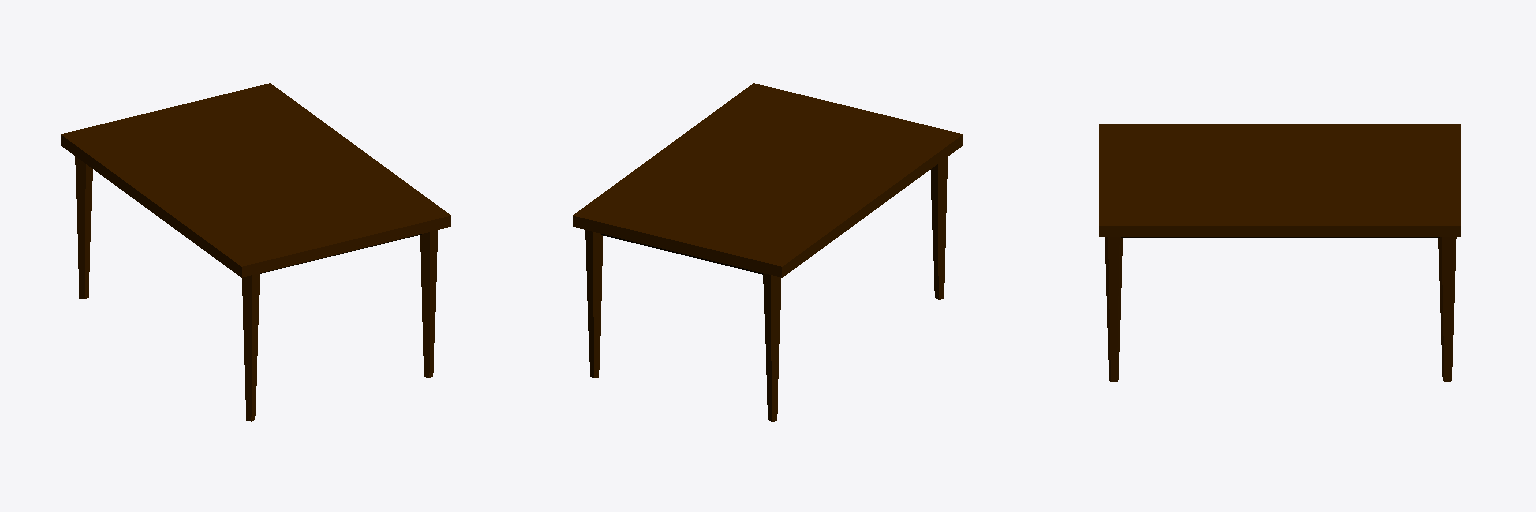
The model's file is mesa.obj.
The picture shows the model from 3 angles: view 1: azimuth 30°, elevation 25°; view 2: azimuth 150°, elevation 25°; view 3: azimuth 270°, elevation 25°; orthographic projection.
Parts seen in each view (by area): view 1: Cube.5, Cone.1, Cone, Cone.3; view 2: Cube.5, Cone.3, Cone.2, Cone.1; view 3: Cube.5, Cone, Cone.2.
Part boxes in pixels (x1,y1,x2,y2): Cube.5: (61, 83, 450, 277); Cone.1: (242, 274, 259, 421); Cone: (420, 230, 437, 377); Cone.3: (75, 156, 92, 298); Cube.5: (573, 83, 962, 277); Cone.3: (763, 273, 780, 421); Cone.2: (585, 230, 602, 377); Cone.1: (930, 157, 947, 299); Cube.5: (1099, 124, 1460, 236); Cone: (1105, 237, 1122, 381); Cone.2: (1438, 237, 1456, 381).
Size of the model in its own units: 146 by 108 by 218.